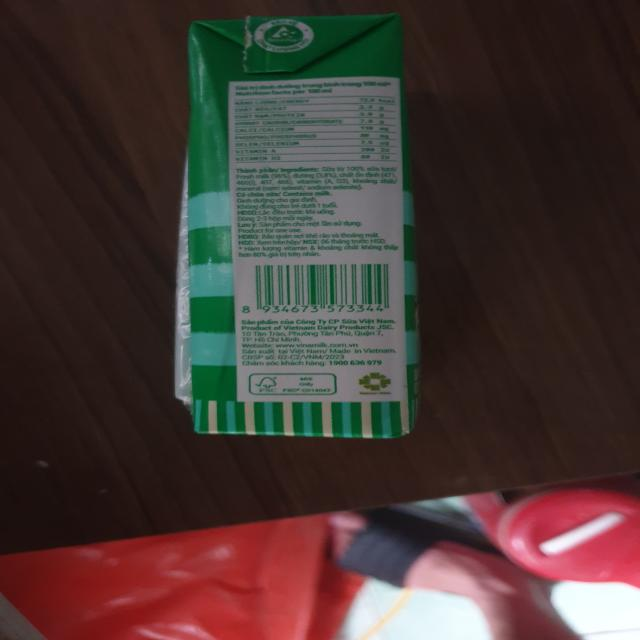Vina: (172, 10, 437, 445)
